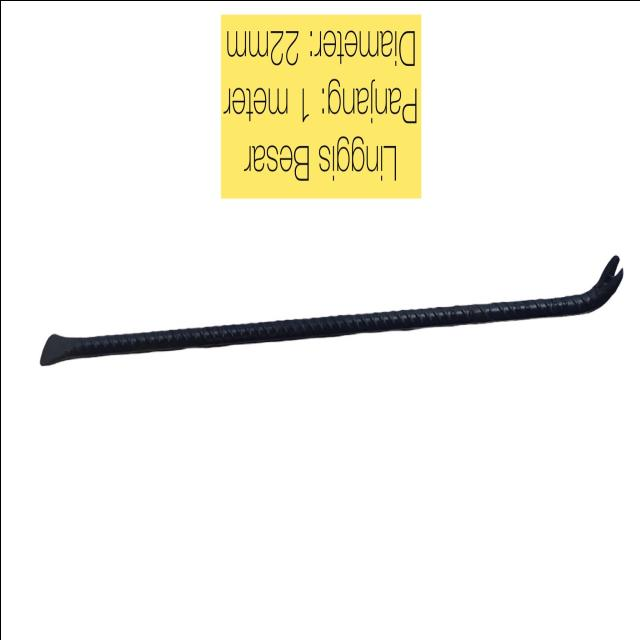Linggis: (36, 258, 624, 371)
